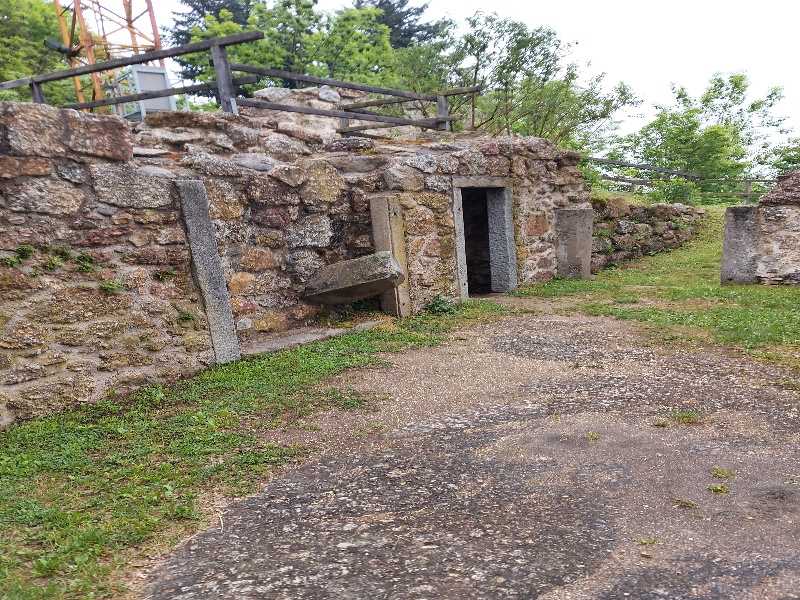door2: (432, 162, 528, 304)
